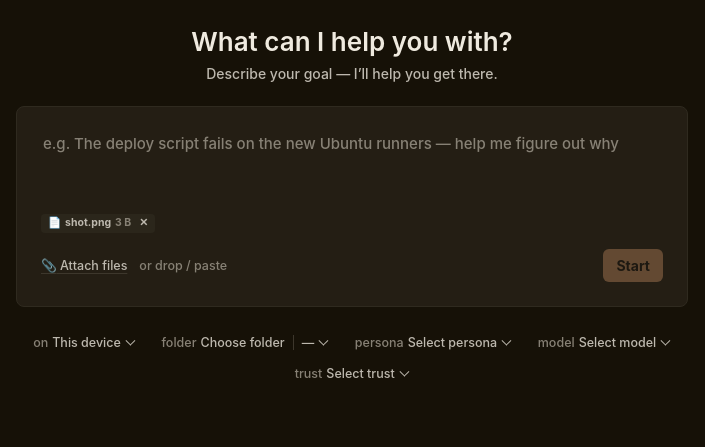
Scenario: Launchpad on another device (mesh mode) › staged files follow the device: re-uploaded to the peer and started with it
The width and height of the screenshot is (705, 447).
Earlier steps of the test are not shown.
Later steps or results of the test are not shown.
Click the button "on This device" at (84, 342), box [24, 330, 144, 354]
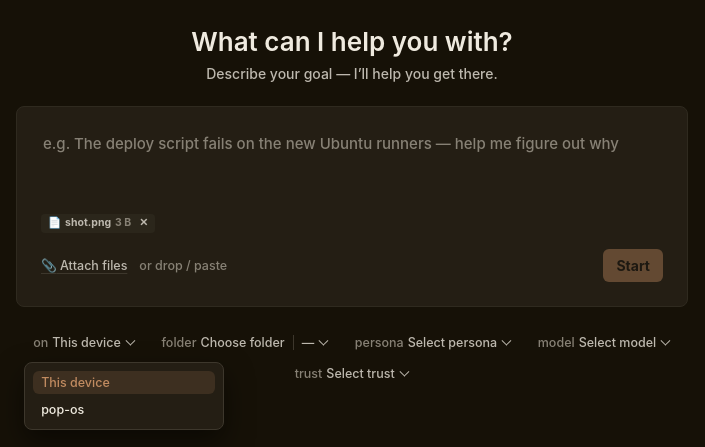
Click the button "pop-os" at (124, 409), box [33, 398, 215, 420]
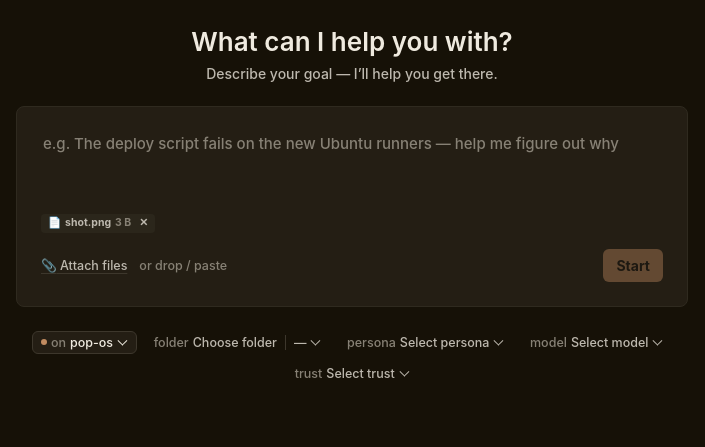
Replace the text in the text box named "Describe your goal" with "Remote goal" at (352, 164), box [41, 130, 663, 198]
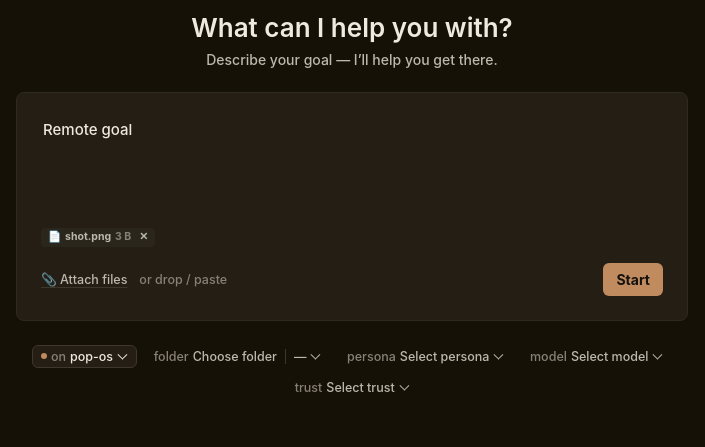
Expected: the button with aria-label "Start session" is enabled, [603, 262, 663, 296]
